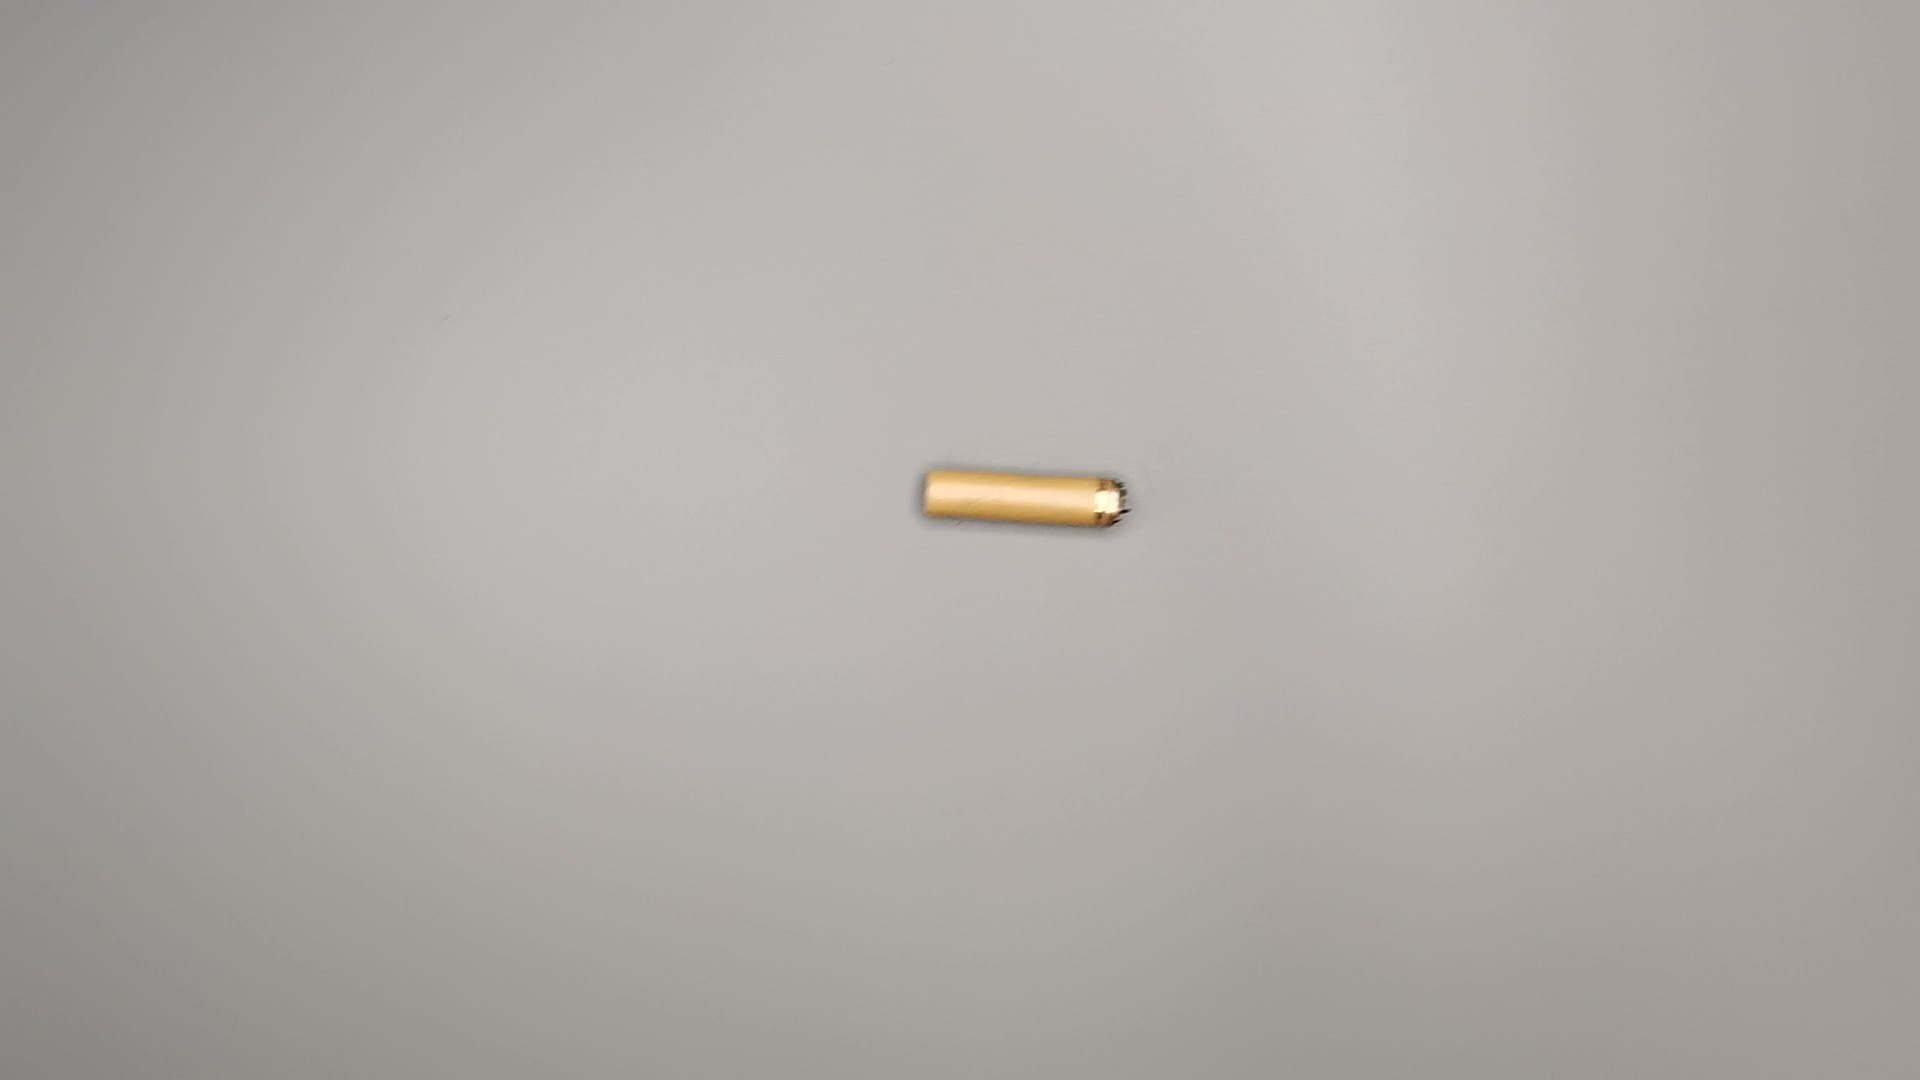cigarette: (914, 462, 1141, 538)
